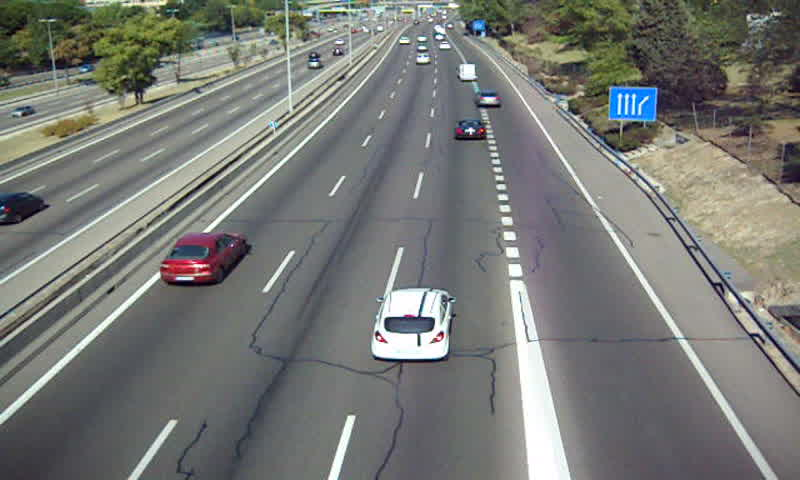car: (371, 288, 453, 360), (160, 233, 245, 286), (452, 118, 485, 140), (476, 91, 500, 108)
van: (458, 63, 476, 80)
